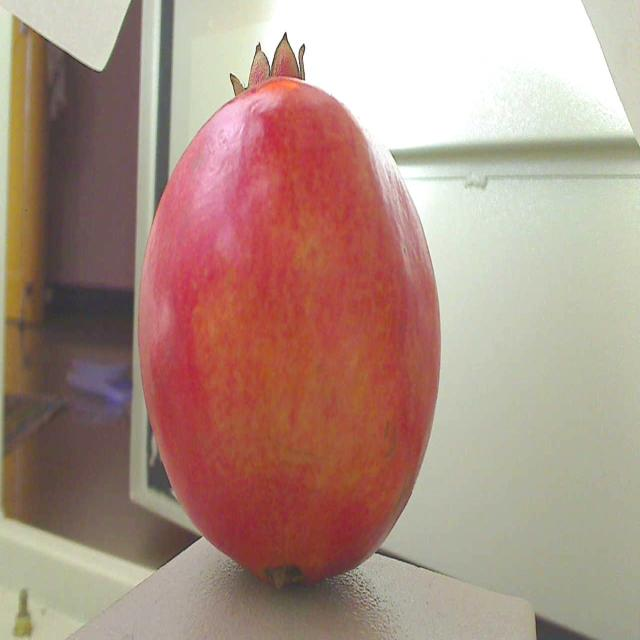pomegranate: (130, 27, 462, 597)
